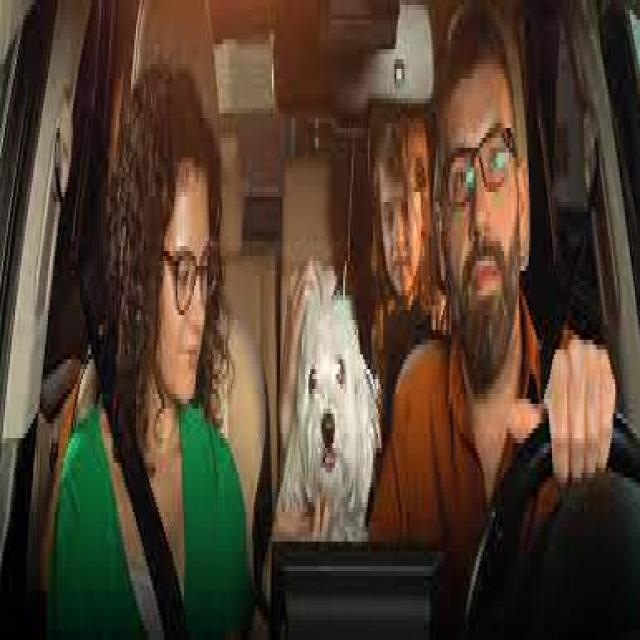seatbelt: (51, 143, 189, 640), (492, 133, 610, 527)
